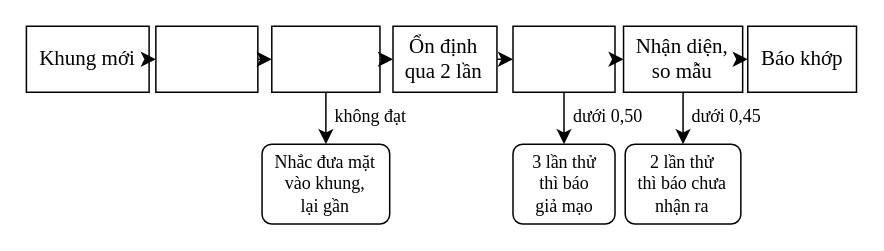
Some shapes in this 884 by 251 pixel diagram are drawn without their labels. The shapes that lost their labels are listed below. From the top down, each one's centre as x and y in pixels, then its label:
At pixel 206 58: "YuNet".
At pixel 325 58: "Bốn cổng hình học".
At pixel 563 58: "Chống giả mạo".
